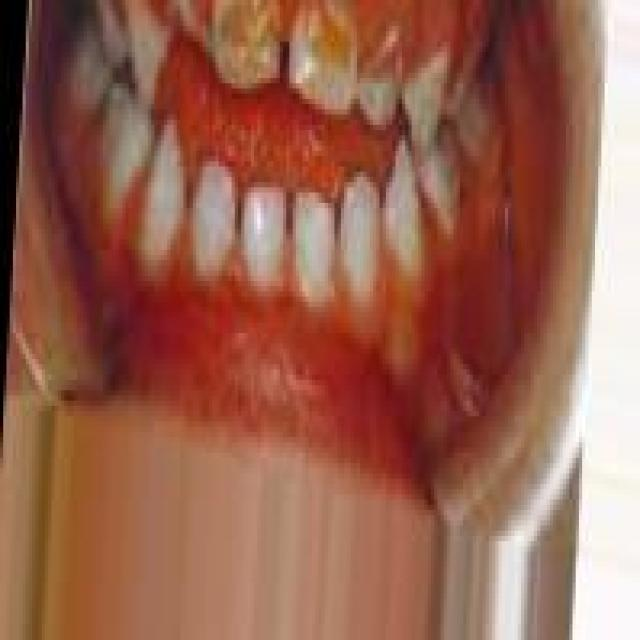caries: (211, 0, 279, 101), (291, 0, 350, 115), (361, 14, 404, 133)
